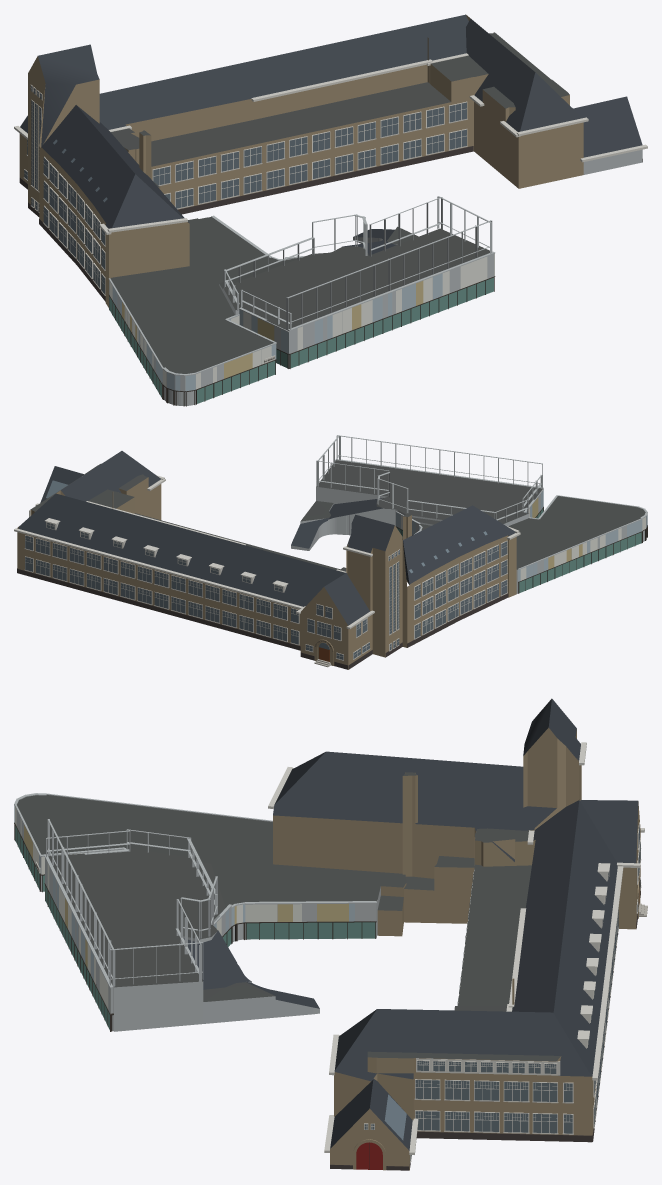
File: technische-school-meeuwenlaan.glb
The picture shows the model from 3 angles, top to bottom: view 1: azimuth 30°, elevation 25°; view 2: azimuth 150°, elevation 25°; view 3: azimuth 270°, elevation 25°; orthographic projection. The views are drawn at different scales.
Visible parts, largest first — view 1: technische-school-meeuwenlaan; view 2: technische-school-meeuwenlaan; view 3: technische-school-meeuwenlaan.
Part boxes in pixels (<box>): technische-school-meeuwenlaan: <box>14,14,647,406</box>; technische-school-meeuwenlaan: <box>14,435,647,669</box>; technische-school-meeuwenlaan: <box>14,698,647,1170</box>.
Bounding box in the file's own units: 110 × 27.47 × 85.54.
